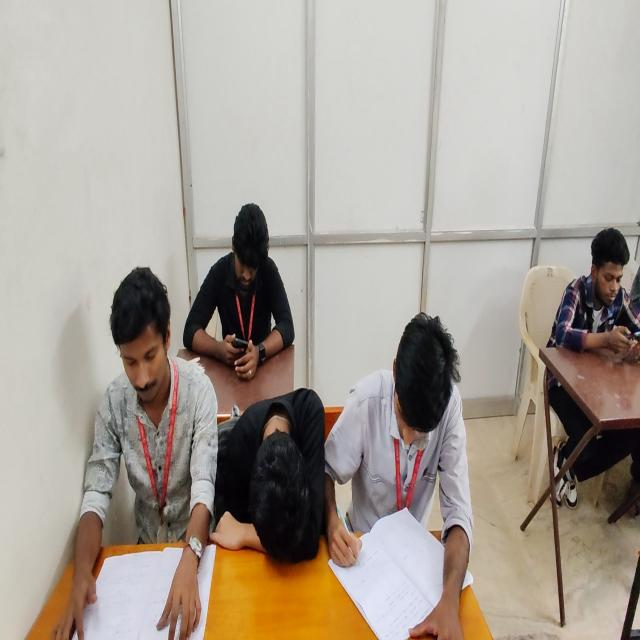listening: (53, 266, 220, 640)
sleeping: (213, 386, 323, 567)
using_mobile: (541, 225, 638, 512), (181, 201, 295, 381)
writing: (332, 312, 470, 640)
